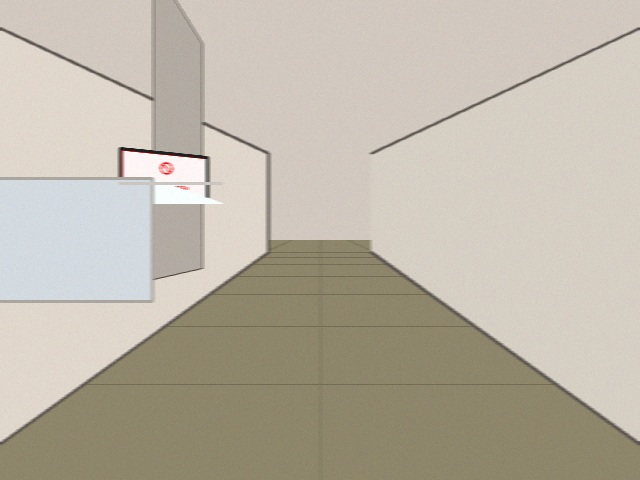directional_sign: (120, 148, 207, 198)
hospital_bed: (0, 178, 222, 301)
